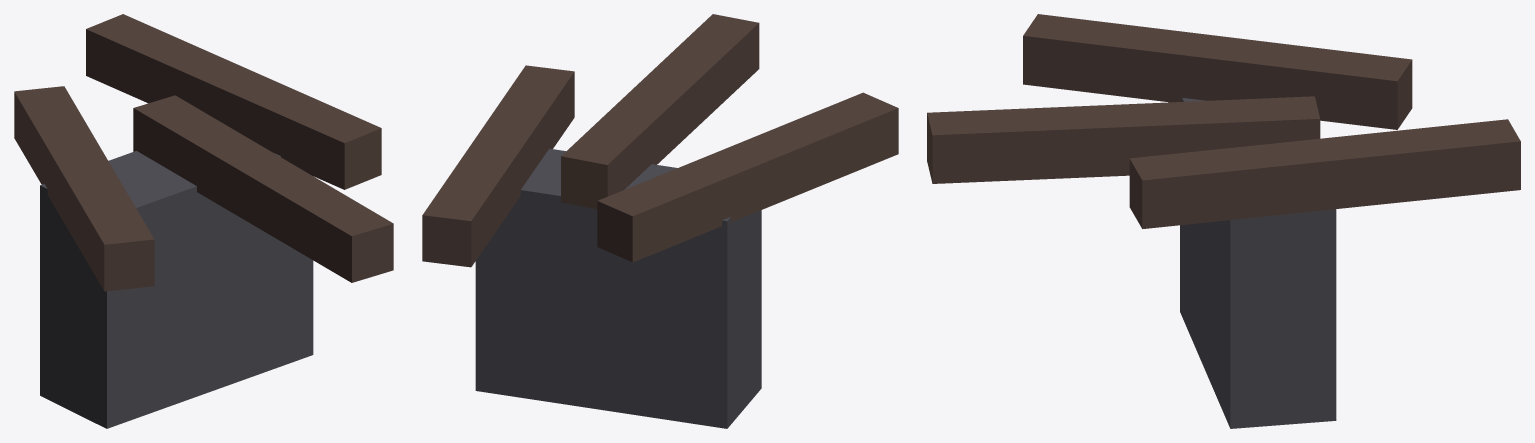
Rendered from EXTC_ThornCluster_01.glb.
The picture shows the model from 3 angles, left to right: view 1: azimuth 30°, elevation 25°; view 2: azimuth 150°, elevation 25°; view 3: azimuth 270°, elevation 25°; orthographic projection. The views are drawn at different scales.
Parts seen in each view (by area): view 1: EXTC_ThornCluster_01; view 2: EXTC_ThornCluster_01; view 3: EXTC_ThornCluster_01.
Boxes of the visible parts, box(x1,y1,x2,y2) form: EXTC_ThornCluster_01: box(14, 14, 393, 428); EXTC_ThornCluster_01: box(422, 14, 898, 428); EXTC_ThornCluster_01: box(927, 14, 1520, 428).
Bounding box in the file's own units: 0.5864 × 0.43 × 0.8837.
